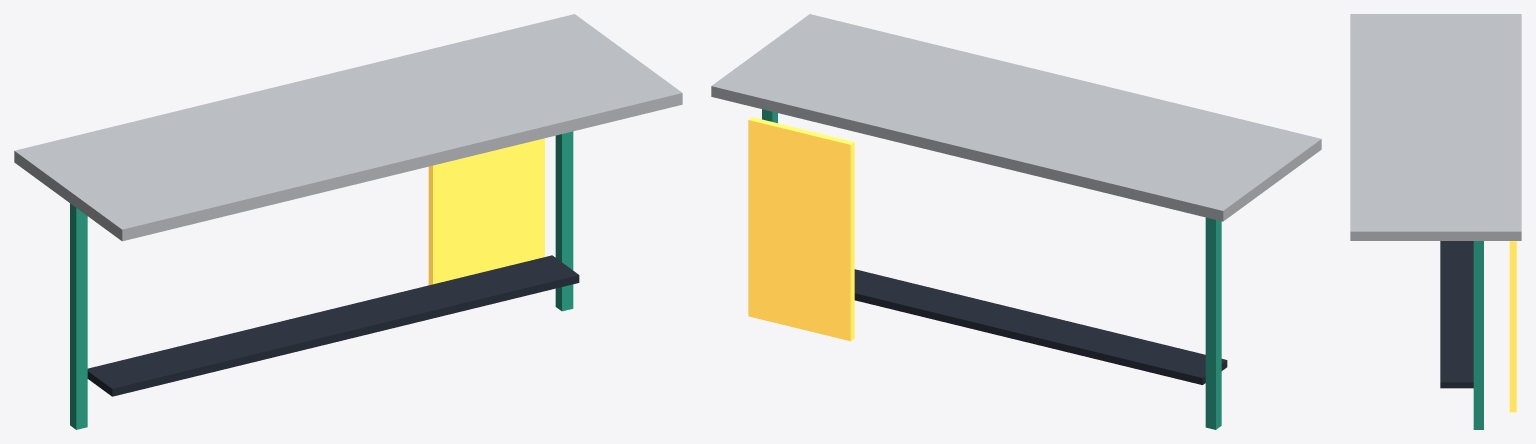
Rendered from bus_stop.glb.
The picture shows the model from 3 angles, left to right: view 1: azimuth 30°, elevation 25°; view 2: azimuth 150°, elevation 25°; view 3: azimuth 270°, elevation 25°; orthographic projection. The views are drawn at different scales.
Parts seen in each view (by area): view 1: busstop; view 2: busstop; view 3: busstop.
Boxes of the visible parts, x1,y1,x2,y2 form: busstop: (14,14,682,429); busstop: (711,14,1321,429); busstop: (1350,14,1521,429).
Size of the model in its own units: 6 by 2.71 by 2.
